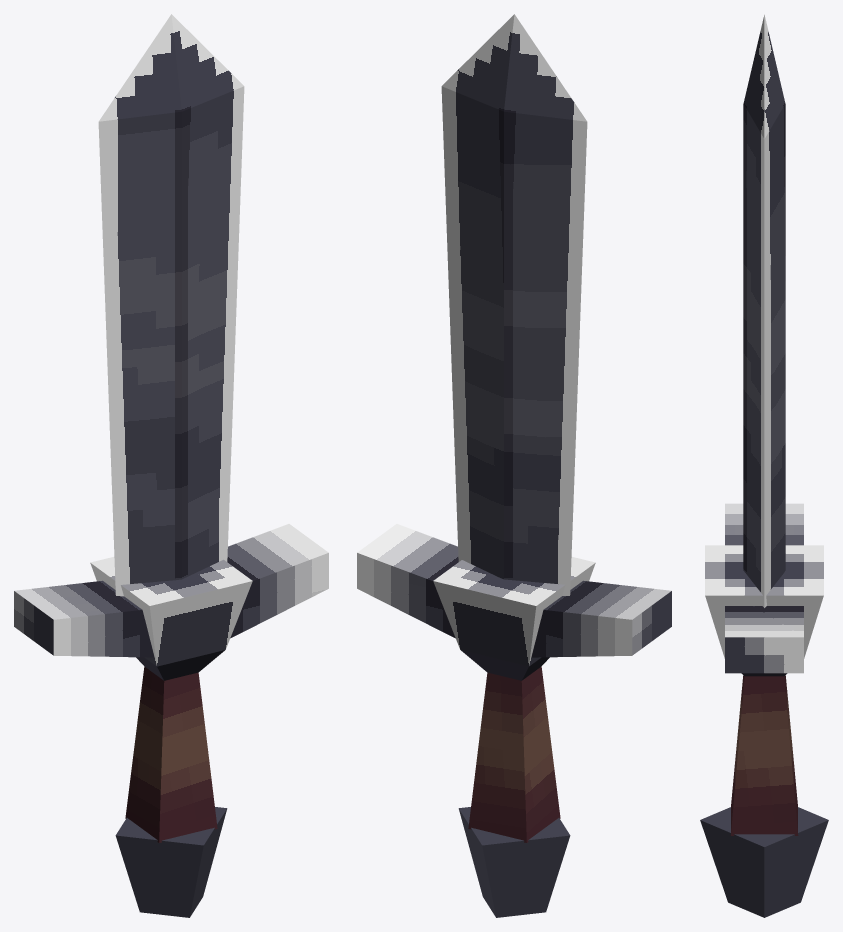
File: Sword_Model.fbx
The picture shows the model from 3 angles, left to right: view 1: azimuth 30°, elevation 25°; view 2: azimuth 150°, elevation 25°; view 3: azimuth 270°, elevation 25°; orthographic projection.
Visible parts, largest first — view 1: Sword; view 2: Sword; view 3: Sword.
Part boxes in pixels (x1,y1,x2,y2): Sword: (14, 14, 328, 917); Sword: (357, 14, 671, 917); Sword: (700, 14, 828, 917).
Size of the model in its own units: 100 by 309 by 40.66.
1 material, 1 textured.
